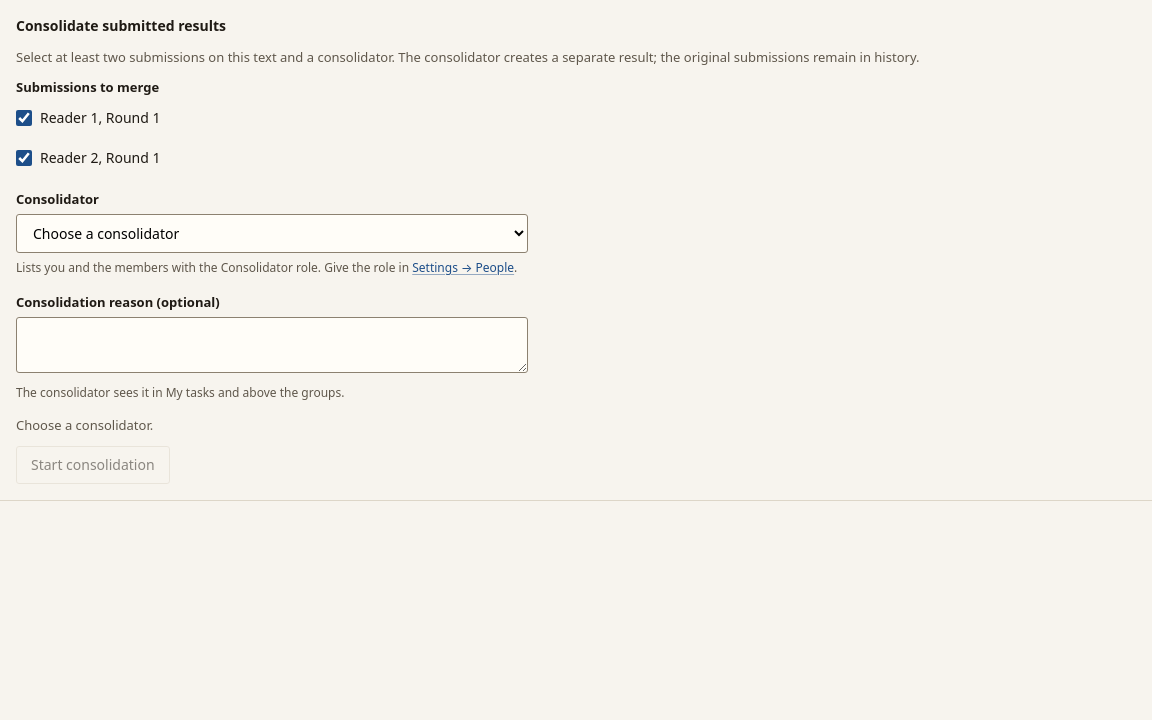
a consolidator with a consolidation in progress gets Continue instead of Start (R-8)
This screenshot has width=1152, height=720.
Step 1. Select "You (Mia Kühn)" in the dropdown labelled "Consolidator" → (272, 234), box x1=16 y1=214 x2=528 y2=253
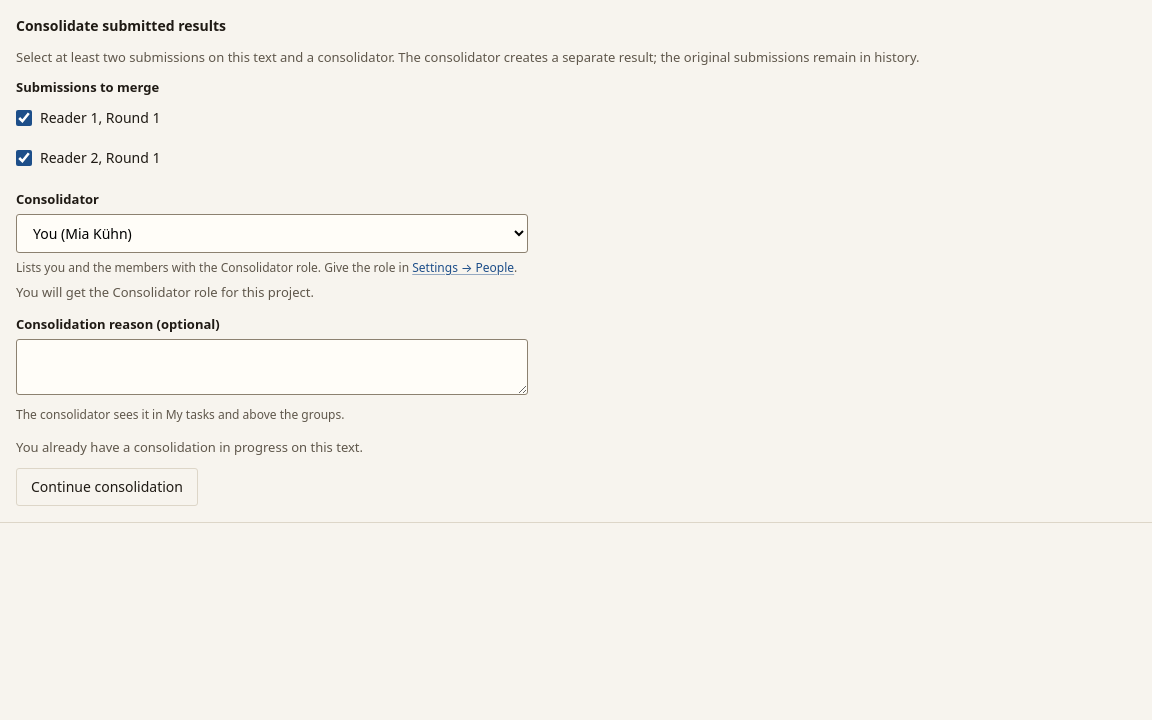
expect the text "You already have a consolidation in progress on this text." is shown: met, box x1=16 y1=438 x2=363 y2=456
expect the button "Start consolidation" is gone: met
Step 2. Select "Rita Rev (rev-0009)" in the dropdown labelled "Consolidator" → (272, 234), box x1=16 y1=214 x2=528 y2=253
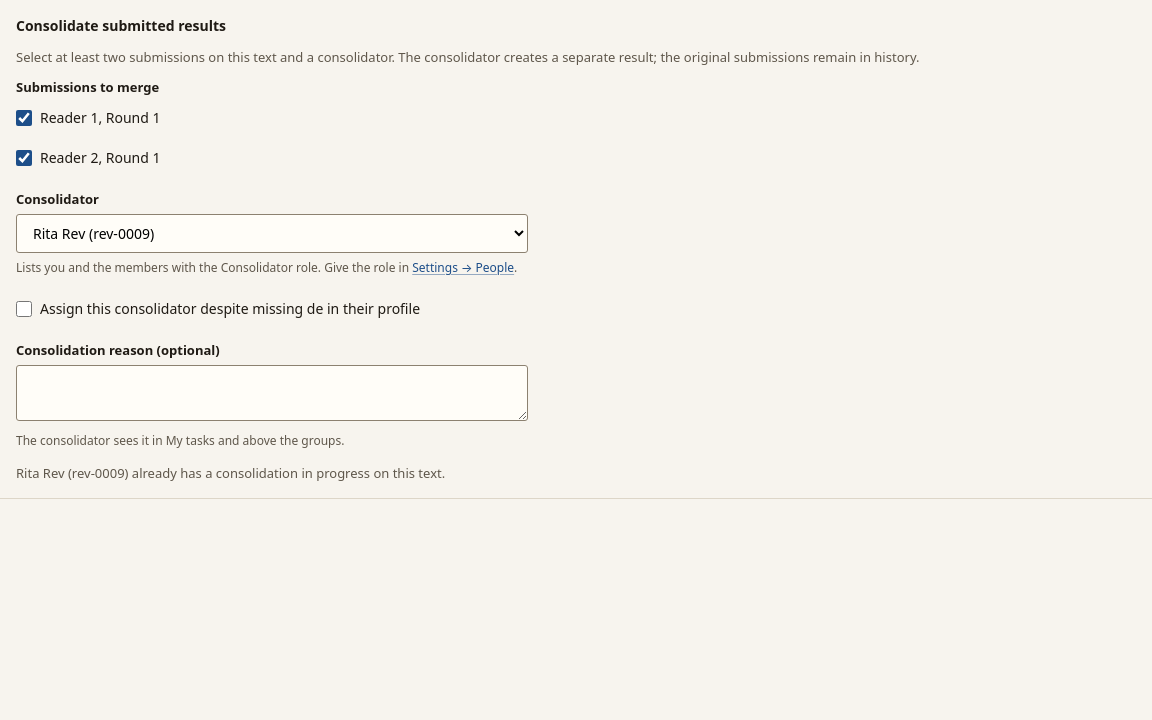
expect the text "Rita Rev (rev-0009) already has a consolidation in progress on this text." is shown: met, box x1=16 y1=464 x2=445 y2=482
expect the link "Continue consolidation" is gone: met
